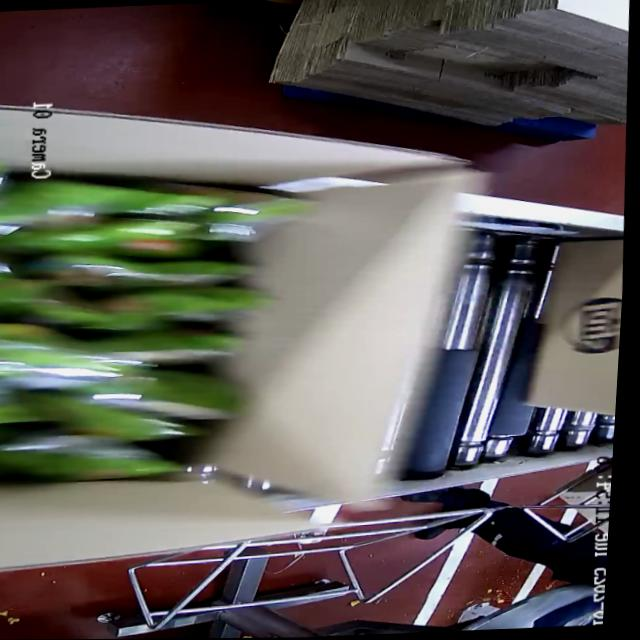YOGURT_HERB: (0, 170, 268, 494)
